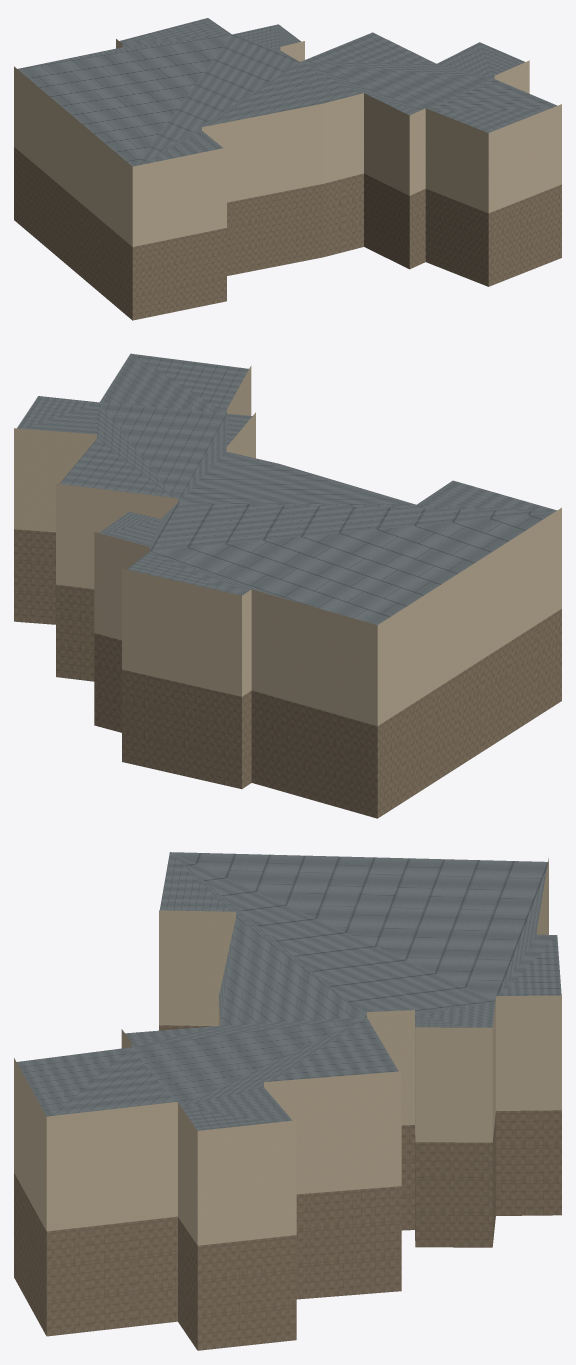
Rendered from bld_c-15_-15_767.gltf.
3 views of the same model, one above another, from view 1: azimuth 30°, elevation 25°; view 2: azimuth 150°, elevation 25°; view 3: azimuth 270°, elevation 25° (orthographic). The views are drawn at different scales.
Parts seen in each view (by area): view 1: bld_c-15_-15_767; view 2: bld_c-15_-15_767; view 3: bld_c-15_-15_767.
Boxes of the visible parts, x1=… form: bld_c-15_-15_767: x1=14, y1=18, x2=561, y2=320; bld_c-15_-15_767: x1=14, y1=353, x2=561, y2=818; bld_c-15_-15_767: x1=14, y1=852, x2=561, y2=1350.
Size of the model in its own units: 29.55 by 10.68 by 24.12.
4 materials, 4 textured.
